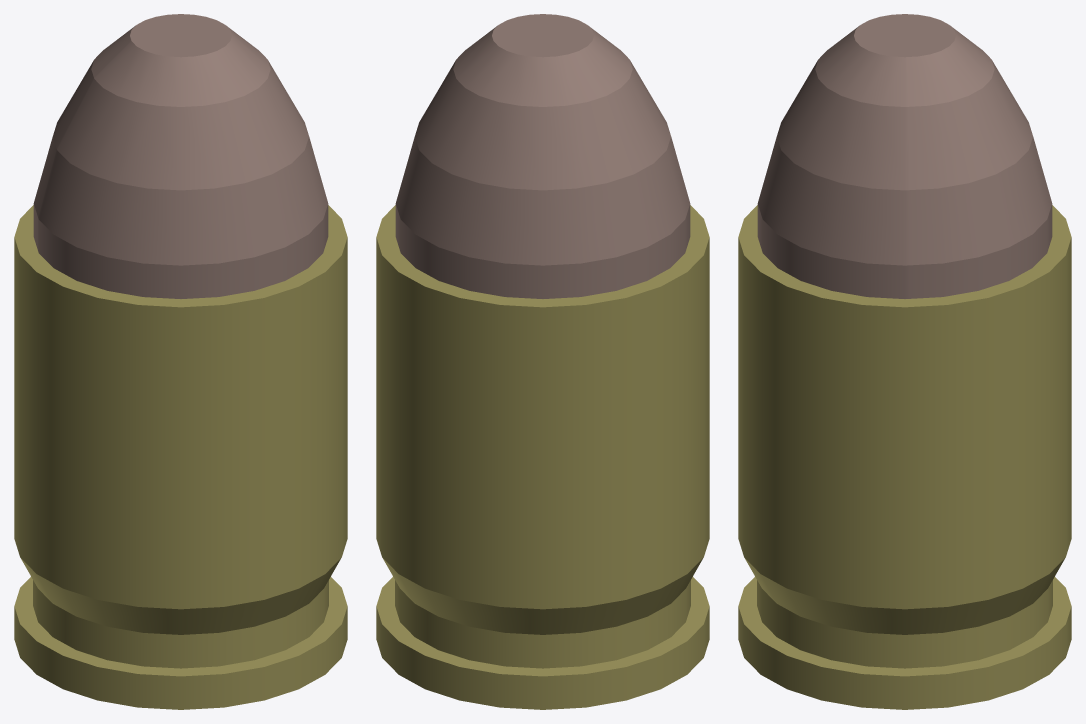
The model's file is ammo_pistol.glb.
The picture shows the model from 3 angles, left to right: view 1: azimuth 30°, elevation 25°; view 2: azimuth 150°, elevation 25°; view 3: azimuth 270°, elevation 25°; orthographic projection.
Visible parts, largest first — view 1: ammo_pistol; view 2: ammo_pistol; view 3: ammo_pistol.
Boxes of the visible parts, bbox=[...] form: ammo_pistol: bbox=[14, 14, 347, 709]; ammo_pistol: bbox=[376, 14, 709, 709]; ammo_pistol: bbox=[738, 14, 1071, 709].
Bounding box in the file's own units: 0.0054 × 0.0108 × 0.0054.
